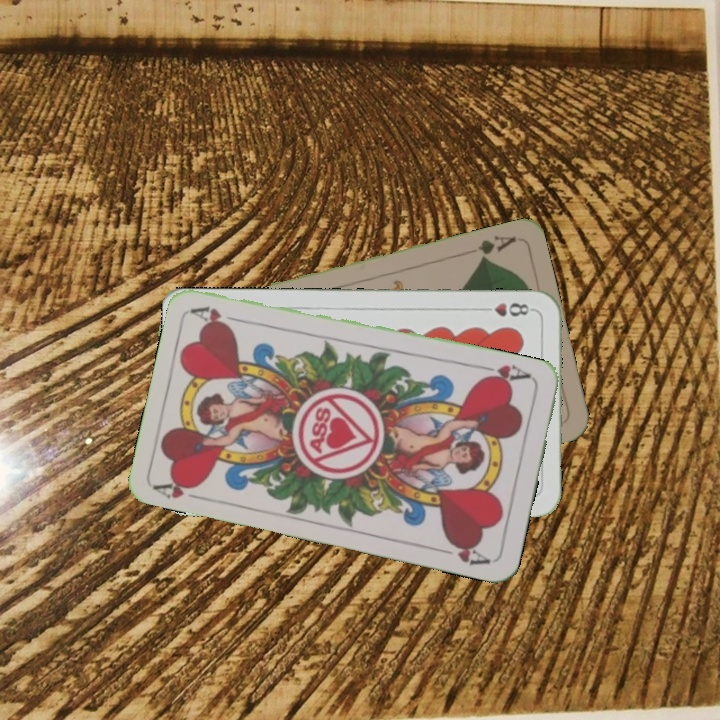GA: (473, 231, 519, 264)
H8: (477, 299, 536, 319)
HA: (151, 473, 210, 504), (476, 360, 534, 387)
